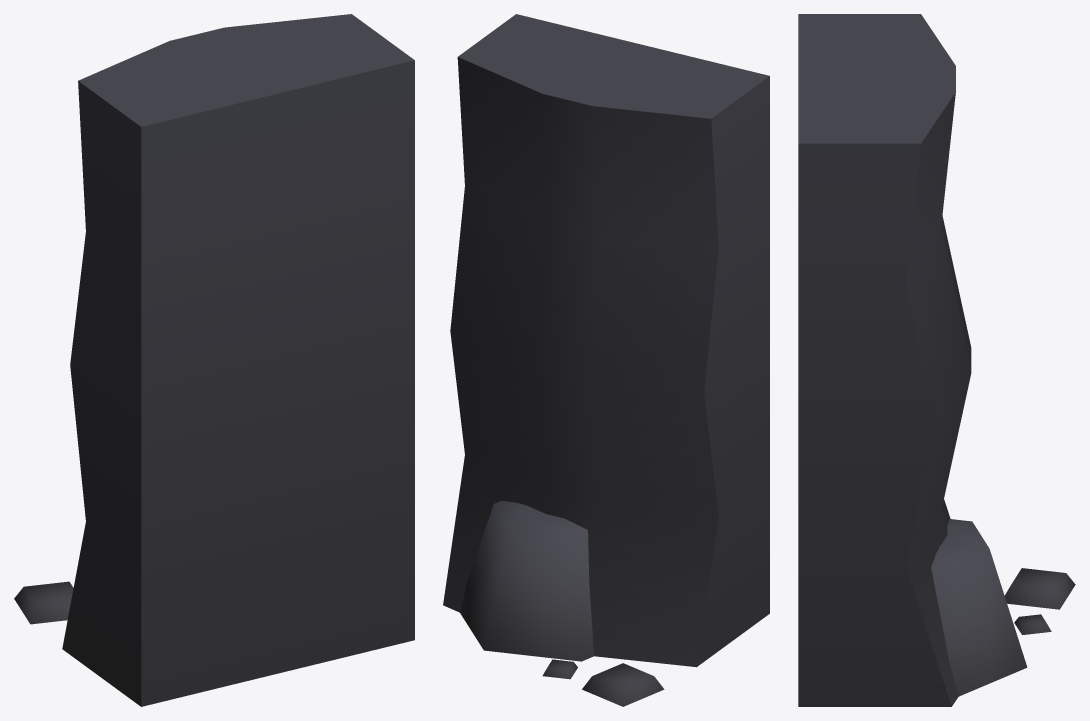
Rendered from template-wall-half.fbx.
The picture shows the model from 3 angles, left to right: view 1: azimuth 30°, elevation 25°; view 2: azimuth 150°, elevation 25°; view 3: azimuth 270°, elevation 25°; orthographic projection. The views are drawn at different scales.
Visible parts, largest first — view 1: template-wall-half; view 2: template-wall-half; view 3: template-wall-half.
Part boxes in pixels (bbox=[...]): template-wall-half: bbox=[14, 14, 414, 706]; template-wall-half: bbox=[443, 14, 769, 706]; template-wall-half: bbox=[798, 14, 1075, 706].
Size of the model in its own units: 200 by 405 by 181.
